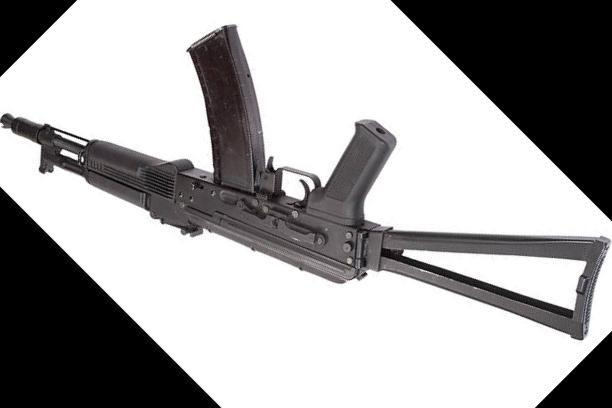larga: (0, 24, 612, 341)
